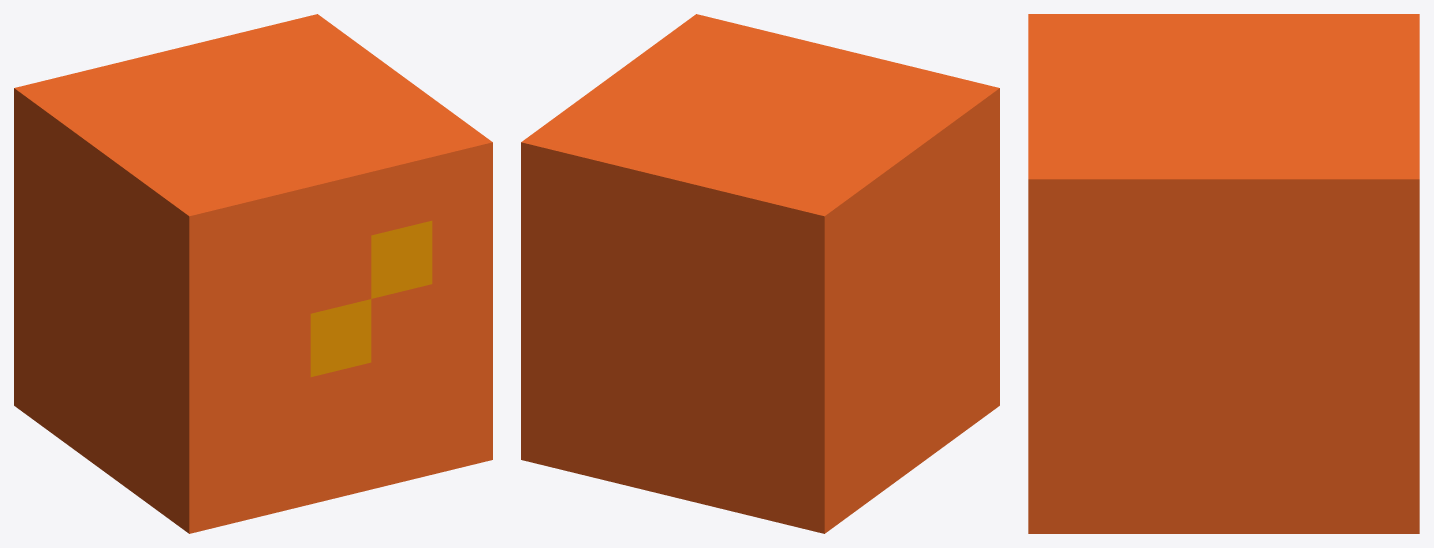
Rendered from blob_d_walk_0.obj.
3 renders of one model, left to right at view 1: azimuth 30°, elevation 25°; view 2: azimuth 150°, elevation 25°; view 3: azimuth 270°, elevation 25°, orthographic. The views are drawn at different scales.
Bounding box in the file's own units: 0.5 × 0.5 × 0.5.
1 material, 1 textured.
